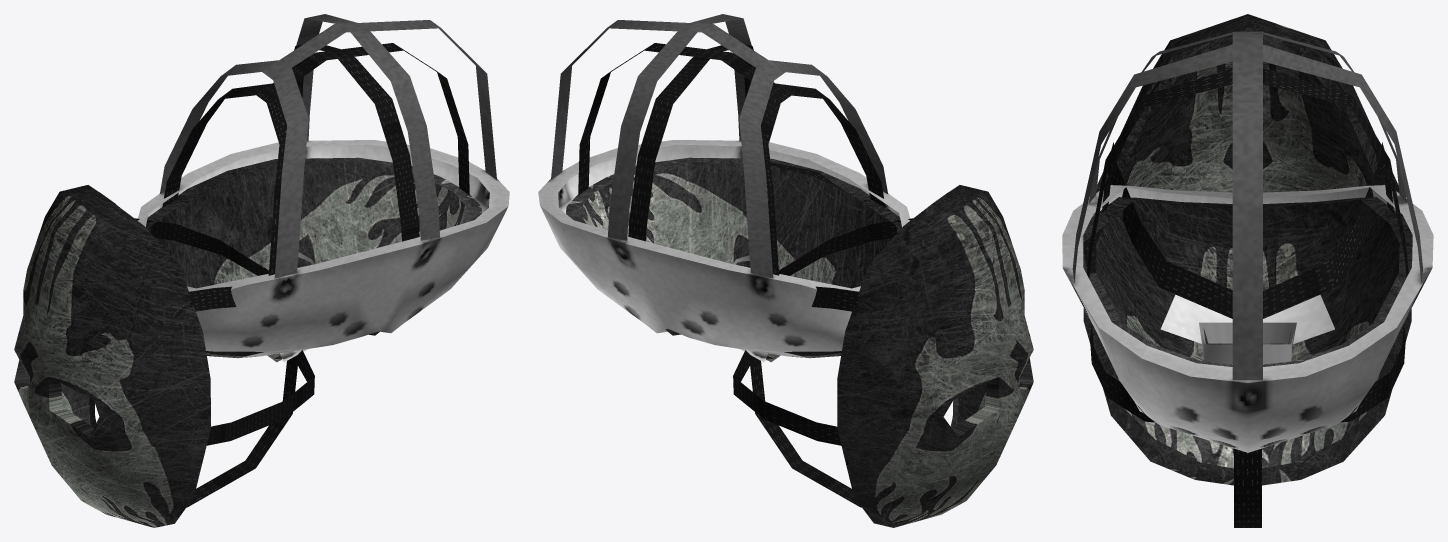
File: F_TacticalMask.fbx
3 renders of one model, left to right at view 1: azimuth 30°, elevation 25°; view 2: azimuth 150°, elevation 25°; view 3: azimuth 270°, elevation 25°, orthographic. The views are drawn at different scales.
Parts seen in each view (by area): view 1: F_TacticalMask, M_HockeyMask, F_HockeyMask; view 2: F_TacticalMask, M_HockeyMask, F_HockeyMask; view 3: M_HockeyMask, F_TacticalMask, F_HockeyMask.
Boxes of the visible parts, <box> form: F_TacticalMask: <box>14,185,314,527</box>; M_HockeyMask: <box>137,14,509,362</box>; F_HockeyMask: <box>145,43,482,362</box>; F_TacticalMask: <box>733,185,1033,527</box>; M_HockeyMask: <box>538,14,910,362</box>; F_HockeyMask: <box>566,43,901,362</box>; M_HockeyMask: <box>1062,31,1433,452</box>; F_TacticalMask: <box>1083,14,1411,527</box>; F_HockeyMask: <box>1083,68,1412,366</box>.
Size of the model in its own units: 12343 by 10832 by 6259.
